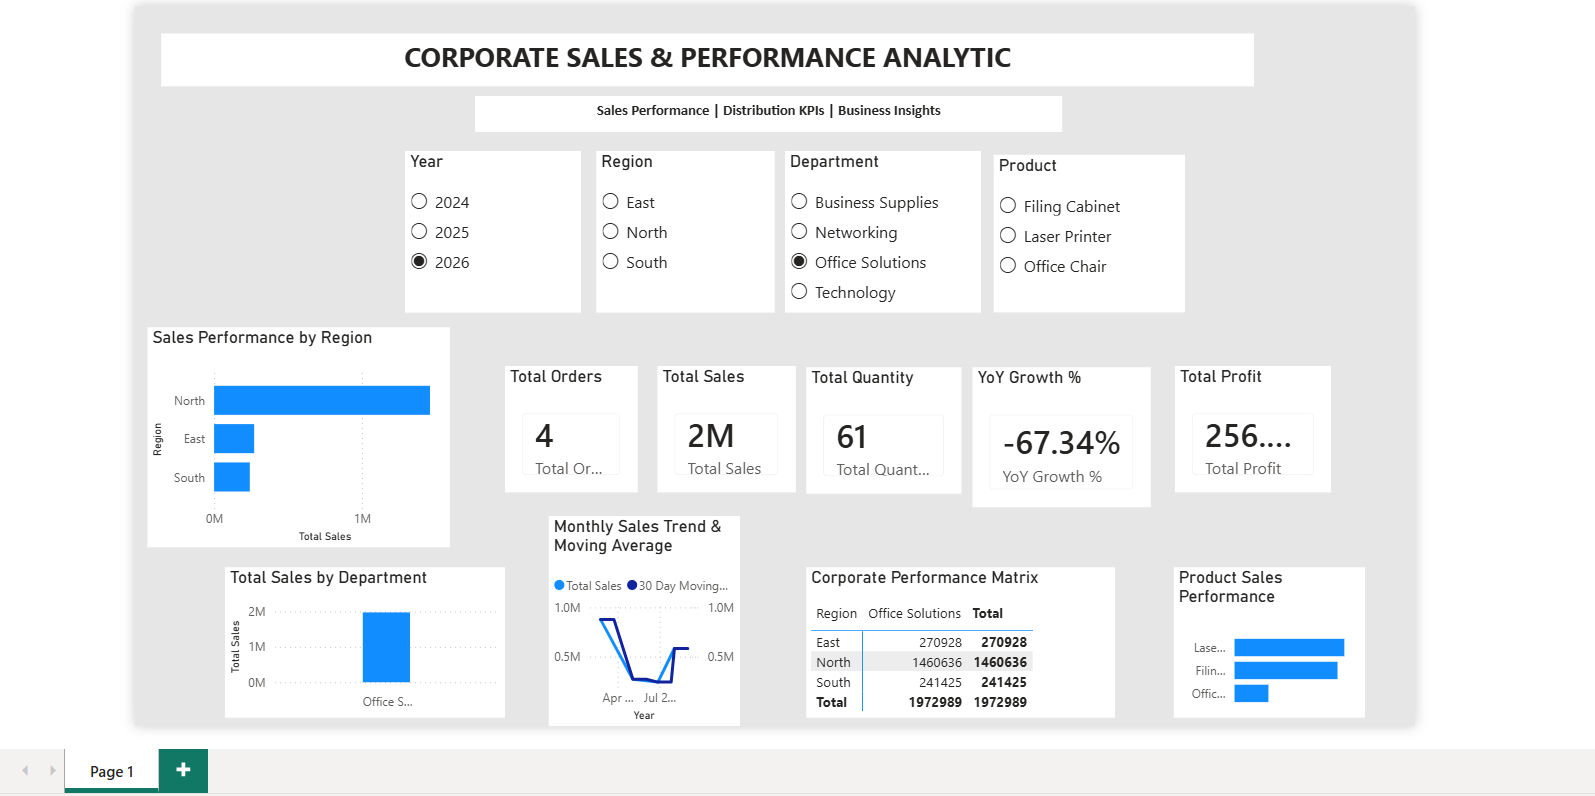

Layout of this report page (visuals, bound fields, positions):
{"tool":"powerbi","page":{"name":"Page 1","canvas":[1280,720],"ordinal":0},"visuals":[{"type":"cardVisual","title":"Total Sales","fields":{"Data":["SalesData.Total Sales"]},"box":[522.5,360,138.8,126.2],"z":0},{"type":"cardVisual","title":"Total Orders","fields":{"Data":["SalesData.Total Orders"]},"box":[370,360,132.5,126.2],"z":1000},{"type":"cardVisual","title":"Total Quantity","fields":{"Data":["SalesData.Total Quantity"]},"box":[671.2,361.2,155,126.2],"z":2000},{"type":"cardVisual","title":"Total Profit","fields":{"Data":["SalesData.Total Profit"]},"box":[1040,360,156.2,126.2],"z":3000},{"type":"cardVisual","title":"YoY Growth %","fields":{"Data":["SalesData.YoY Growth %"]},"box":[837.5,361.2,178.8,140],"z":4000},{"type":"lineChart","title":"Monthly Sales Trend & Moving Average","fields":{"Y":["SalesData.Total Sales"],"Y2":["SalesData.30 Day Moving Average"],"Category":["Calendar.Date.Variation.Date Hierarchy.Year","Calendar.Date.Variation.Date Hierarchy.Quarter","Calendar.Date.Variation.Date Hierarchy.Month","Calendar.Date.Variation.Date Hierarchy.Day"]},"box":[413.8,510,191.2,210],"z":5000},{"type":"clusteredBarChart","title":"Sales Performance by Region","fields":{"Category":["SalesData.Region"],"Y":["SalesData.Total Sales"]},"box":[12.5,321.2,302.5,220],"z":6000},{"type":"clusteredColumnChart","fields":{"Y":["SalesData.Total Sales"],"Category":["SalesData.Department"]},"box":[90,561.2,280,150],"z":7000},{"type":"listSlicer","fields":{"Values":["Calendar.Year"]},"box":[270,145,176.2,161.2],"z":8000},{"type":"listSlicer","fields":{"Values":["SalesData.Region"]},"box":[461.2,145,178.8,161.2],"z":9000},{"type":"listSlicer","fields":{"Values":["SalesData.Department"]},"box":[650,145,196.2,161.2],"z":10000},{"type":"listSlicer","fields":{"Values":["SalesData.Product"]},"box":[858.8,148.8,191.2,157.5],"z":11000},{"type":"pivotTable","title":"Corporate Performance Matrix","fields":{"Rows":["SalesData.Region"],"Columns":["SalesData.Department"],"Values":["SalesData.Total Sales"]},"box":[671.2,561.2,309,150],"z":12000},{"type":"clusteredBarChart","title":"Product Sales Performance","fields":{"Category":["SalesData.Product"],"Y":["SalesData.Total Sales"]},"box":[1038.8,561.2,191,150],"z":13000},{"type":"textbox","box":[26.2,27.5,1092.5,52.5],"z":13001},{"type":"textbox","box":[340,90,587.5,36.2],"z":13002}]}

Visuals, with their boxes on the page's 1280x720 design canvas (x1, y1, x2, y2). These are canvas units, not pixel positions in the 1595x796 screenshot, which may show the page scaled, cropped or inside an application window:
"Total Sales" cardVisual: region(522, 360, 661, 486)
"Total Orders" cardVisual: region(370, 360, 502, 486)
"Total Quantity" cardVisual: region(671, 361, 826, 487)
"Total Profit" cardVisual: region(1040, 360, 1196, 486)
"YoY Growth %" cardVisual: region(838, 361, 1016, 501)
"Monthly Sales Trend & Moving Average" lineChart: region(414, 510, 605, 720)
"Sales Performance by Region" clusteredBarChart: region(12, 321, 315, 541)
clusteredColumnChart - SalesData.Total Sales x SalesData.Department: region(90, 561, 370, 711)
listSlicer - Calendar.Year: region(270, 145, 446, 306)
listSlicer - SalesData.Region: region(461, 145, 640, 306)
listSlicer - SalesData.Department: region(650, 145, 846, 306)
listSlicer - SalesData.Product: region(859, 149, 1050, 306)
"Corporate Performance Matrix" pivotTable: region(671, 561, 980, 711)
"Product Sales Performance" clusteredBarChart: region(1039, 561, 1230, 711)
textbox: region(26, 28, 1119, 80)
textbox: region(340, 90, 928, 126)
